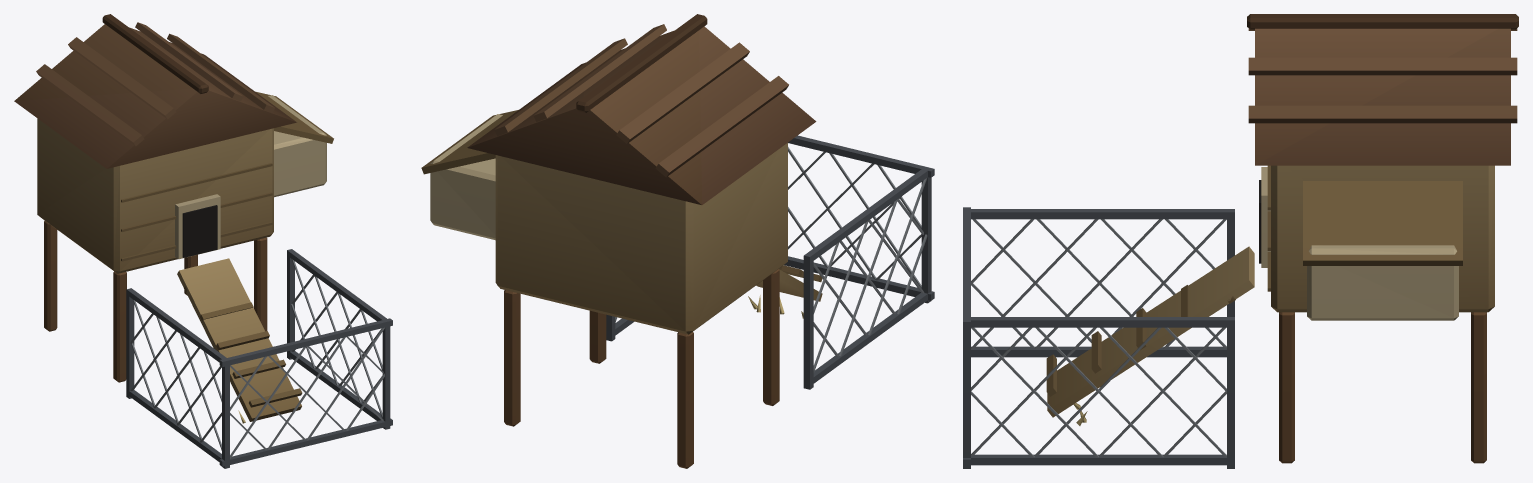
File: chicken-coop.glb
The picture shows the model from 3 angles, left to right: view 1: azimuth 30°, elevation 25°; view 2: azimuth 150°, elevation 25°; view 3: azimuth 270°, elevation 25°; orthographic projection. The views are drawn at different scales.
Visible parts, largest first — view 1: chicken_coop; view 2: chicken_coop; view 3: chicken_coop.
Part boxes in pixels (x1,y1,x2,y2): chicken_coop: [14, 14, 392, 468]; chicken_coop: [421, 14, 934, 468]; chicken_coop: [963, 14, 1518, 468].
Size of the model in its own units: 2.44 by 2.75 by 3.48.
